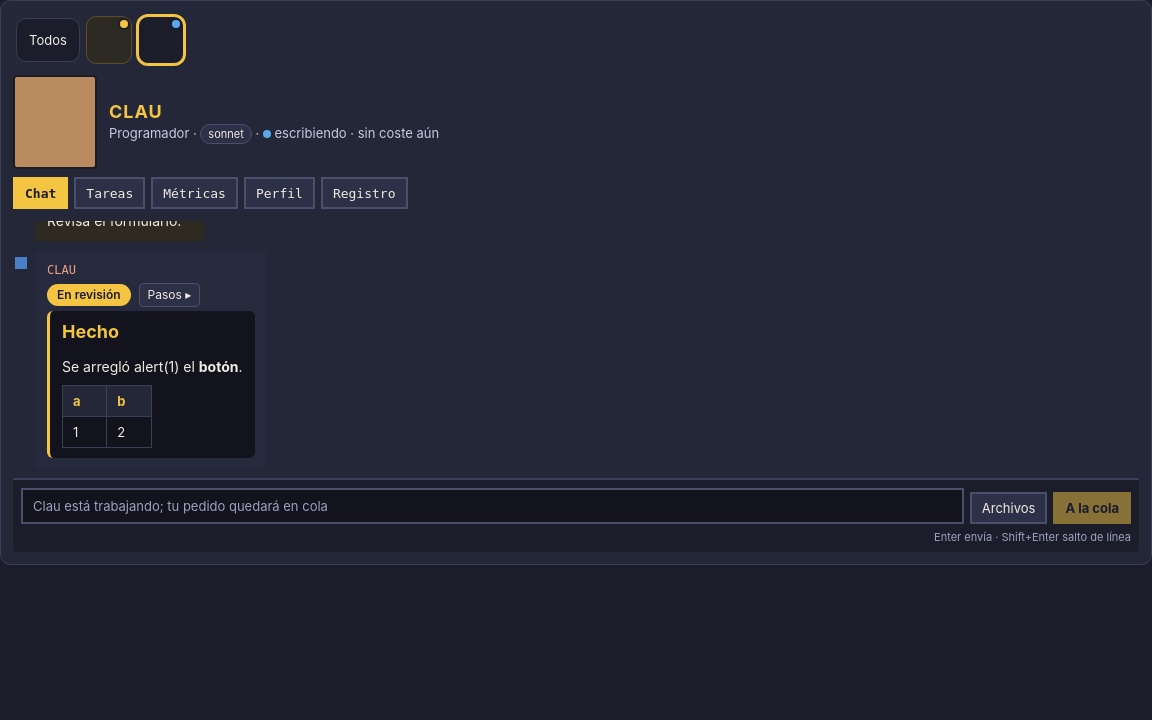
Test: AgentTabs › el registro cuenta lo que hizo el agente en frases, con lo nuevo arriba y sin JSON
The width and height of the screenshot is (1152, 720).
(page scrolled)
Click the tab "Registro" at (364, 193), box [321,177,408,209]
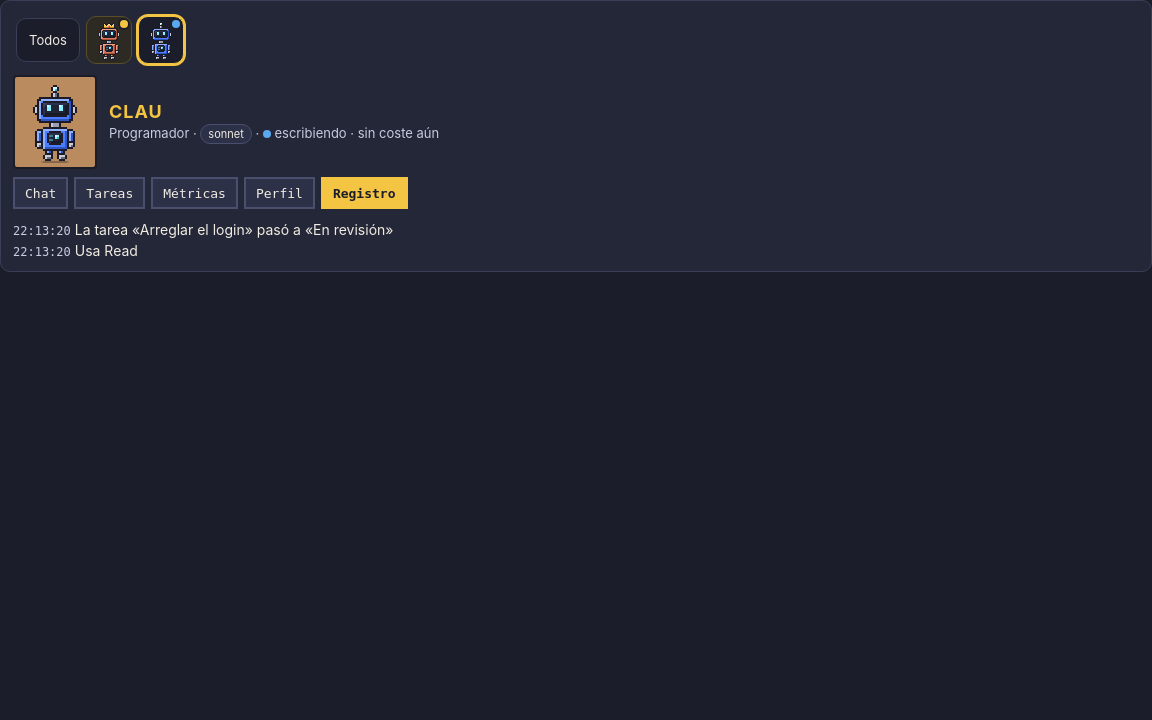
Now the number of list items is 2, box [13,221,394,238]; [13,242,138,259]
Now the list item "22:13:20 La tarea «Arreglar el login» pasó a «En revisión»" is shown, box [13,221,394,238]
Now the list item "22:13:20 Usa Read" is shown, box [13,242,138,259]
